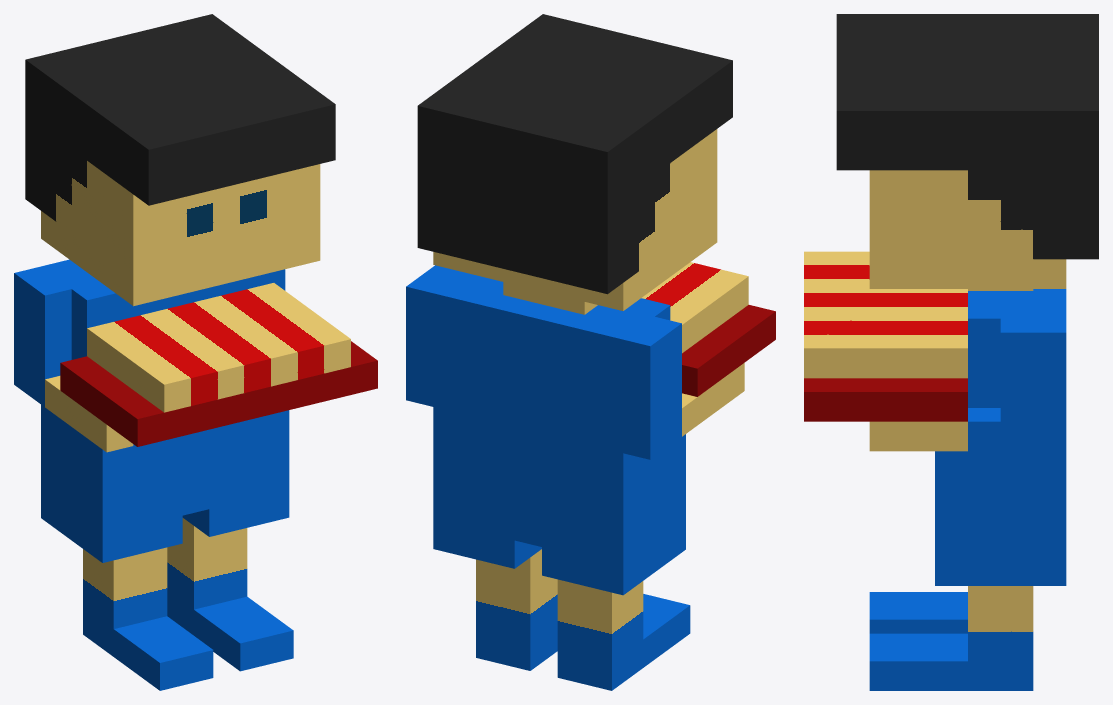
Rendered from NewModel_man_03.dae.
3 views of the same model, side by side, from view 1: azimuth 30°, elevation 25°; view 2: azimuth 150°, elevation 25°; view 3: azimuth 270°, elevation 25° (orthographic). The views are drawn at different scales.
Visible parts, largest first — view 1: pizza_men_26; view 2: pizza_men_26; view 3: pizza_men_26.
Part boxes in pixels (<box>): pizza_men_26: <box>14,14,377,690</box>; pizza_men_26: <box>406,14,775,690</box>; pizza_men_26: <box>804,14,1098,690</box>.
Bounding box in the file's own units: 9 × 20 × 9.
Materials: 1 (1 with a texture image).
